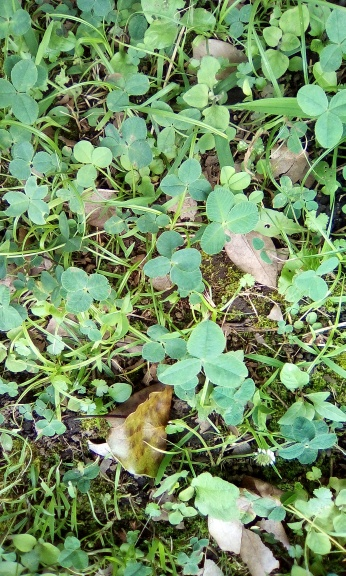4leaf: (143, 230, 203, 291)
